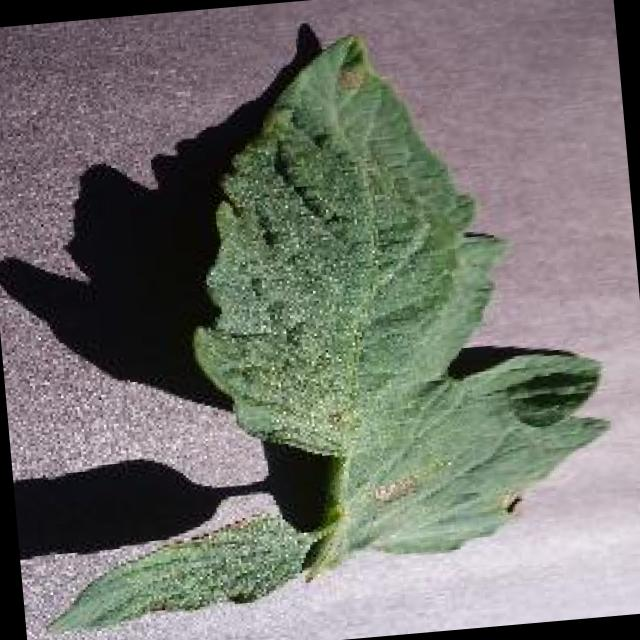Tomato_Early_Blight: (203, 370, 468, 570)
